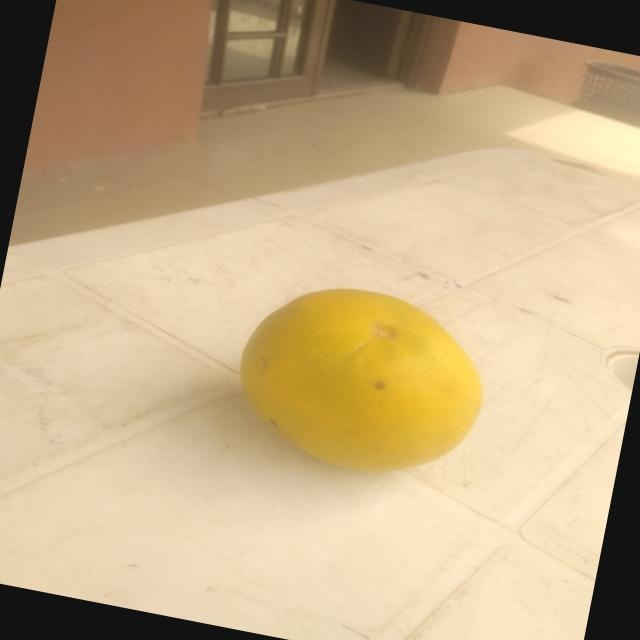agrume: (216, 265, 506, 499)
